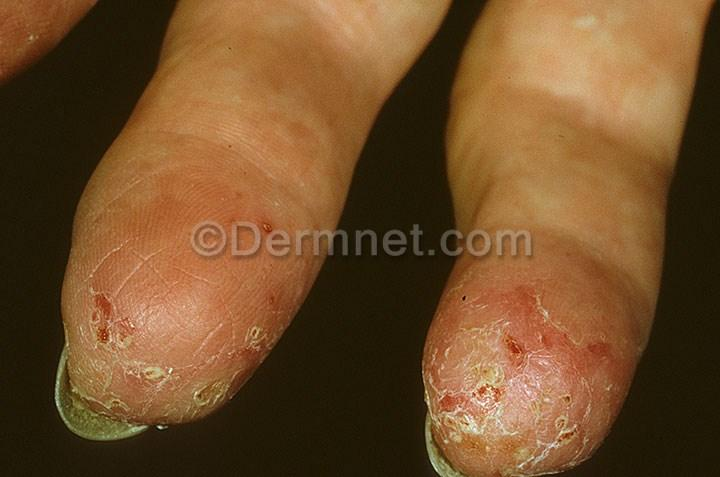Eczema: (173, 48, 242, 100), (575, 330, 633, 385), (519, 300, 571, 357), (549, 250, 624, 288), (169, 144, 246, 181), (494, 145, 556, 190), (477, 411, 522, 470), (534, 7, 594, 51), (168, 15, 249, 47), (464, 293, 520, 337), (575, 159, 623, 210), (576, 206, 628, 253), (67, 282, 121, 327), (161, 99, 216, 143), (282, 161, 321, 223), (124, 212, 172, 262), (96, 183, 170, 213), (480, 75, 526, 123), (274, 117, 324, 161), (498, 187, 555, 225), (209, 282, 256, 328), (469, 338, 527, 375), (215, 184, 247, 251), (225, 106, 275, 148), (123, 265, 178, 303), (241, 153, 279, 208), (591, 10, 650, 45), (572, 284, 624, 323), (221, 248, 271, 288), (70, 213, 125, 249), (94, 384, 137, 430), (594, 52, 630, 106), (525, 357, 576, 395), (169, 200, 216, 241), (70, 243, 122, 280), (483, 12, 524, 58), (508, 273, 573, 302), (499, 236, 547, 275), (323, 55, 369, 95), (442, 404, 476, 458), (240, 210, 283, 252), (576, 390, 624, 427), (555, 88, 597, 130), (459, 238, 510, 272), (174, 246, 219, 284), (139, 386, 177, 429), (271, 256, 319, 290), (454, 268, 514, 295), (655, 30, 688, 79), (110, 310, 149, 351), (62, 322, 110, 355), (98, 349, 143, 384), (473, 375, 518, 410), (156, 170, 214, 197), (144, 305, 181, 347), (427, 338, 470, 374), (426, 301, 471, 335), (143, 348, 184, 385), (259, 285, 296, 325), (176, 378, 212, 419), (522, 438, 564, 473), (226, 330, 269, 364), (94, 162, 163, 183), (286, 218, 327, 253), (134, 104, 164, 151), (625, 290, 649, 348), (257, 70, 300, 102), (179, 290, 208, 335), (526, 392, 560, 430), (429, 374, 466, 408), (647, 93, 682, 128), (181, 337, 215, 372), (309, 165, 344, 199), (284, 29, 323, 59), (66, 352, 102, 384), (534, 58, 573, 87), (210, 362, 239, 400), (206, 321, 232, 363), (632, 140, 662, 176), (66, 378, 96, 413), (566, 420, 596, 452), (437, 457, 479, 477), (444, 284, 479, 307), (351, 0, 378, 29), (77, 190, 101, 221), (642, 231, 669, 258)
